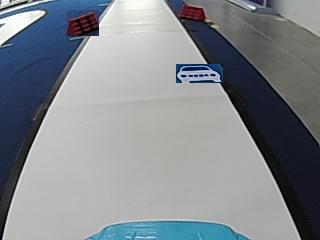bomb: (180, 5, 206, 21)
